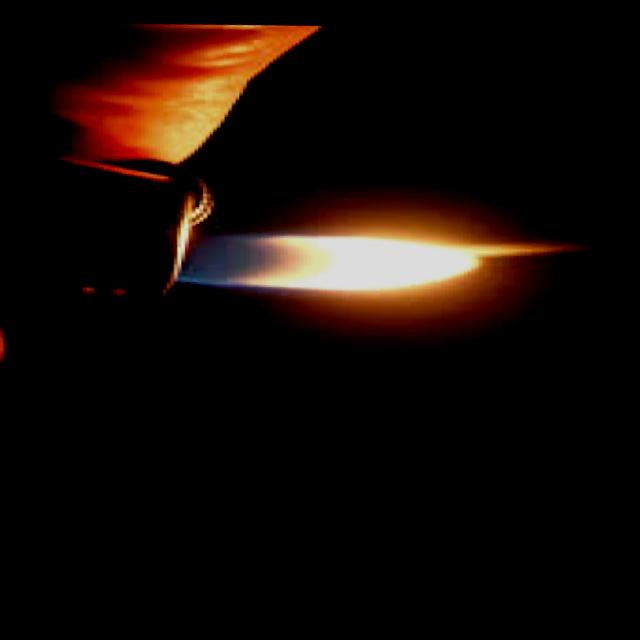helmet: (148, 191, 564, 338)
